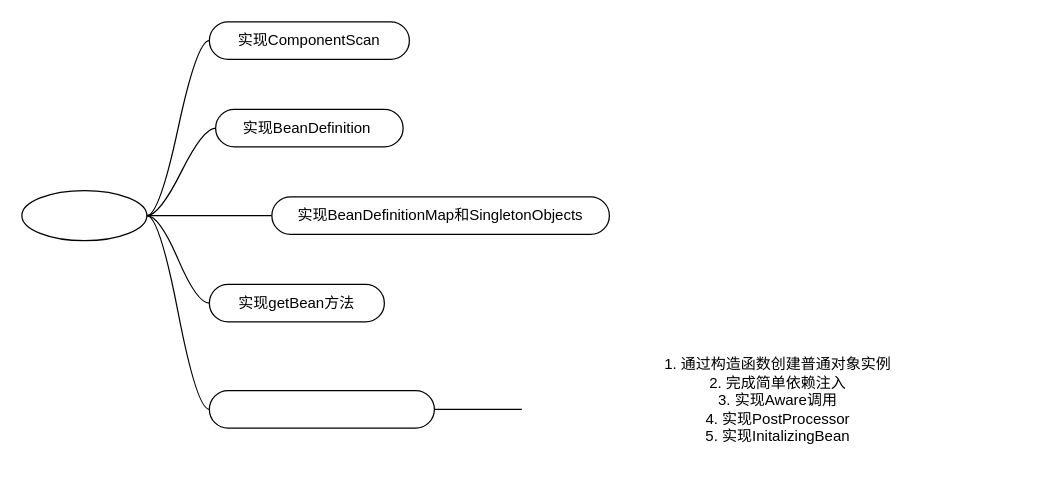
Some shapes in this 1056 by 485 pixel diagram are drawn without their labels. The shapes that lost their labels are listed below. From the top down, each one's centre as x and y in pixels, then its label:
the point at 84,215: 手写Spring
the point at 321,408: 实现创建Bean的生命周期
